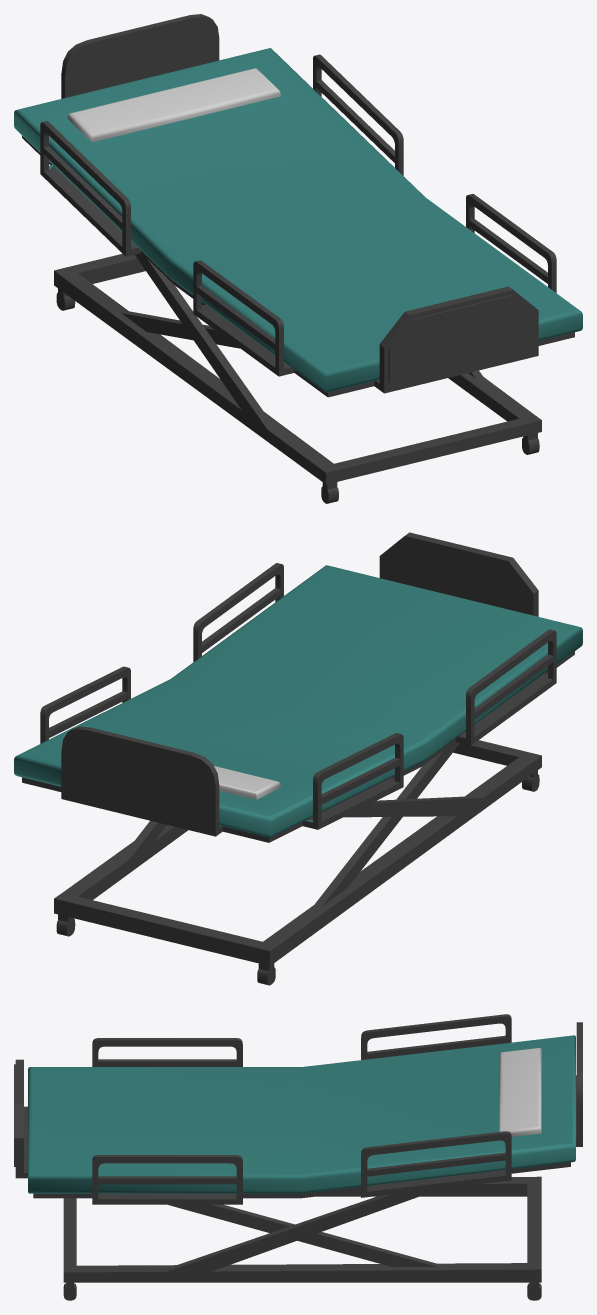
Rendered from camahospi 1.fbx.
3 views of the same model, one above another, from view 1: azimuth 30°, elevation 25°; view 2: azimuth 150°, elevation 25°; view 3: azimuth 270°, elevation 25° (orthographic). The views are drawn at different scales.
Visible parts, largest first — view 1: Box001; view 2: Box001; view 3: Box001.
Part boxes in pixels (x1=…): Box001: x1=14, y1=14, x2=582, y2=503; Box001: x1=14, y1=532, x2=582, y2=985; Box001: x1=14, y1=1014, x2=582, y2=1300.
Bounding box in the file's own units: 21.26 × 17.28 × 42.92.
